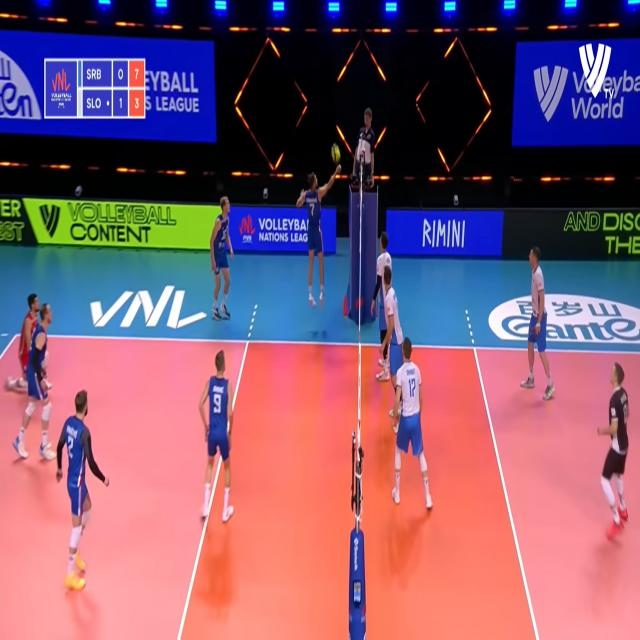player: (56, 384, 102, 601), (193, 348, 239, 530), (395, 338, 434, 518), (16, 303, 60, 459), (597, 358, 632, 544), (525, 238, 554, 407), (298, 166, 327, 308), (208, 187, 234, 330), (382, 267, 410, 398), (16, 288, 42, 402), (369, 233, 393, 343)
